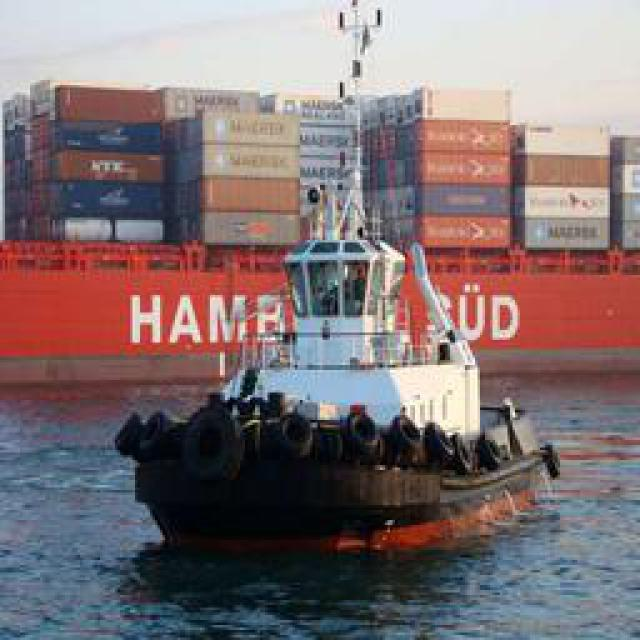Ship: (126, 197, 559, 547)
